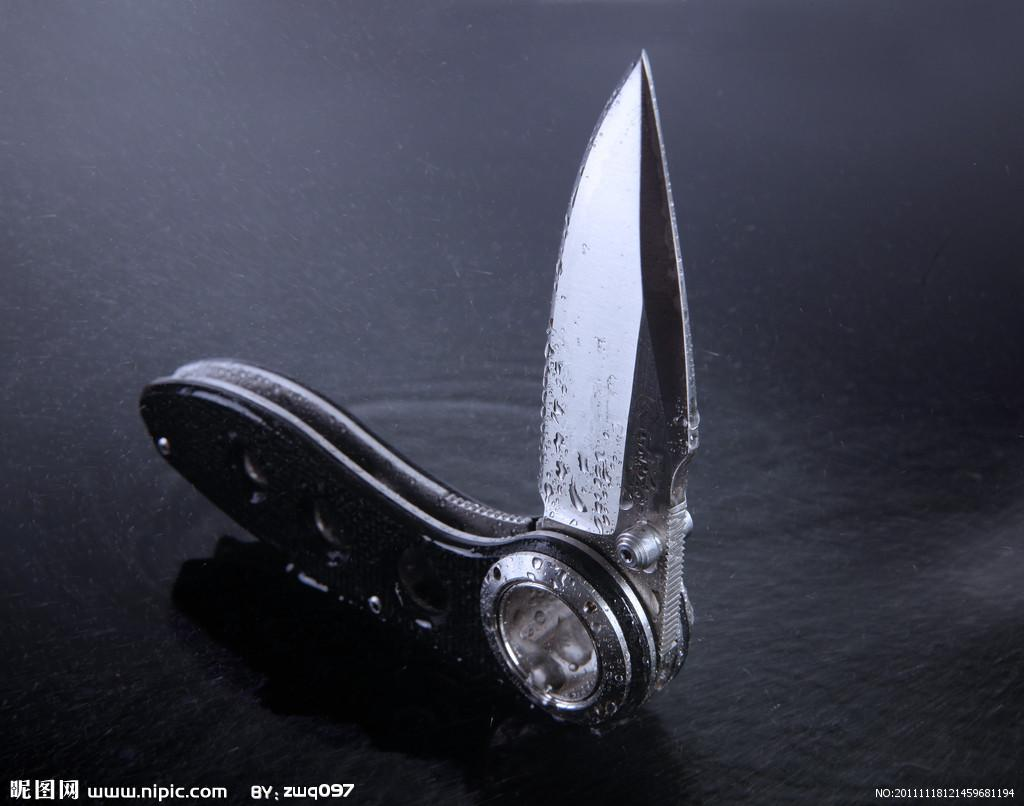knife: (101, 15, 850, 765)
